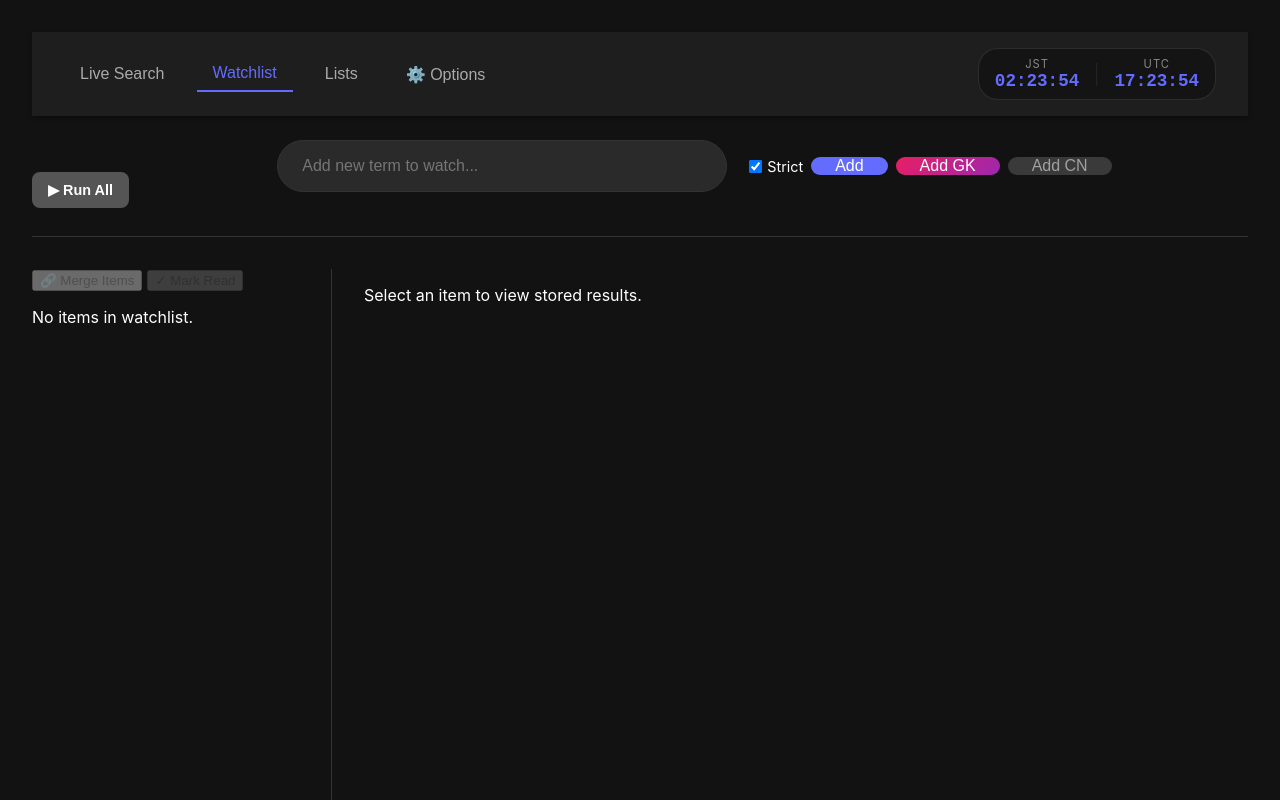
Test case: App Regression Test › should NOT crash when localStorage contains non-array search history and Search view is active
Switch to Live Search view
Click the button "Live Search" at {"x": 122, "y": 74}, box [64,57,180,91]
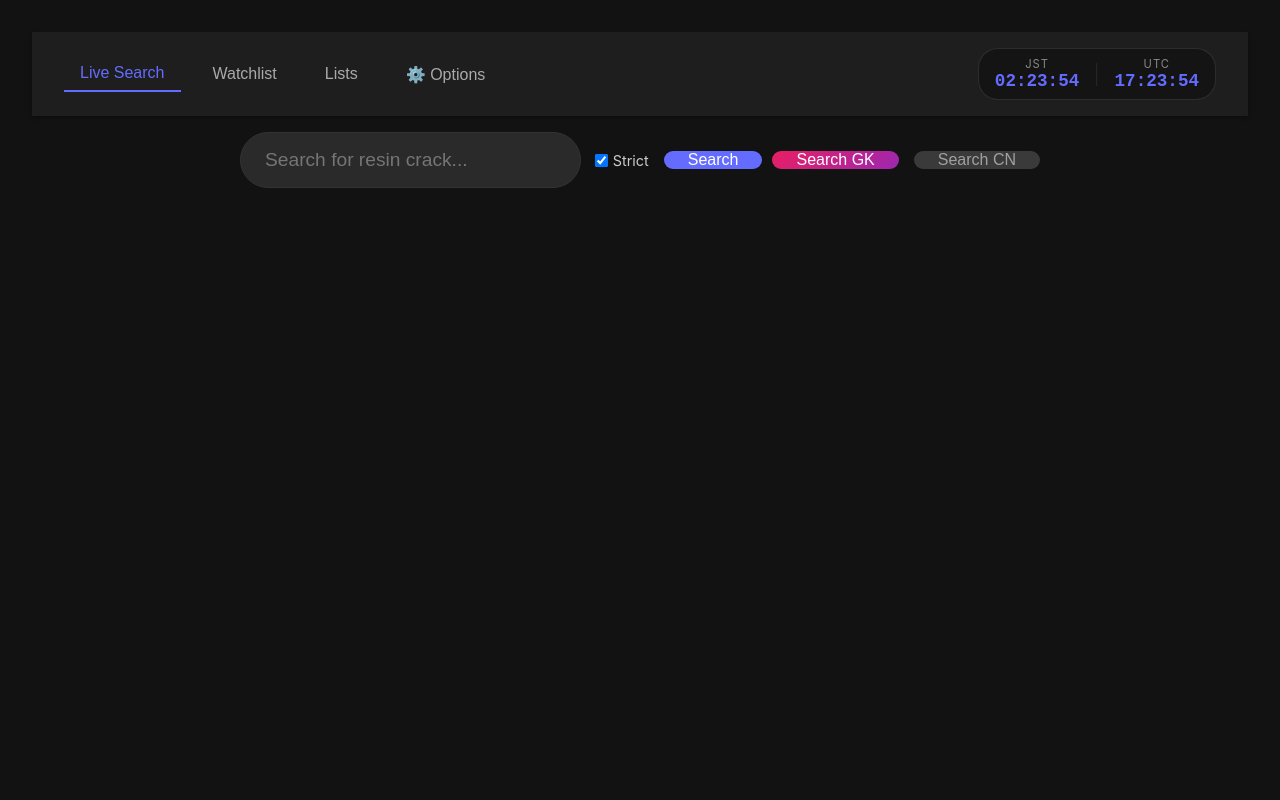
Expected: the field with placeholder "Search for resin crack..." is shown, [240,132,581,188]
